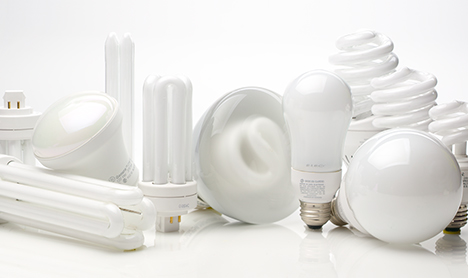Light_bulb: (324, 125, 464, 249), (1, 152, 161, 254), (279, 66, 357, 237), (28, 85, 138, 188), (136, 71, 202, 239), (371, 61, 440, 134)
